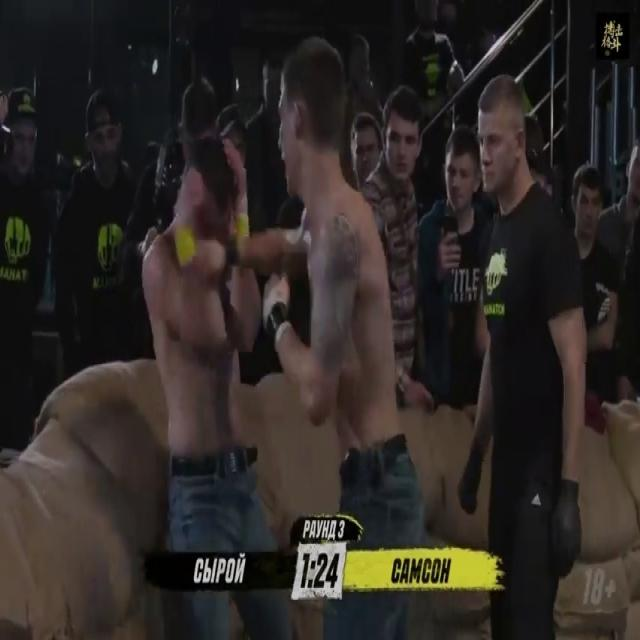fight: (125, 12, 453, 639)
non-fight: (401, 69, 616, 639)
